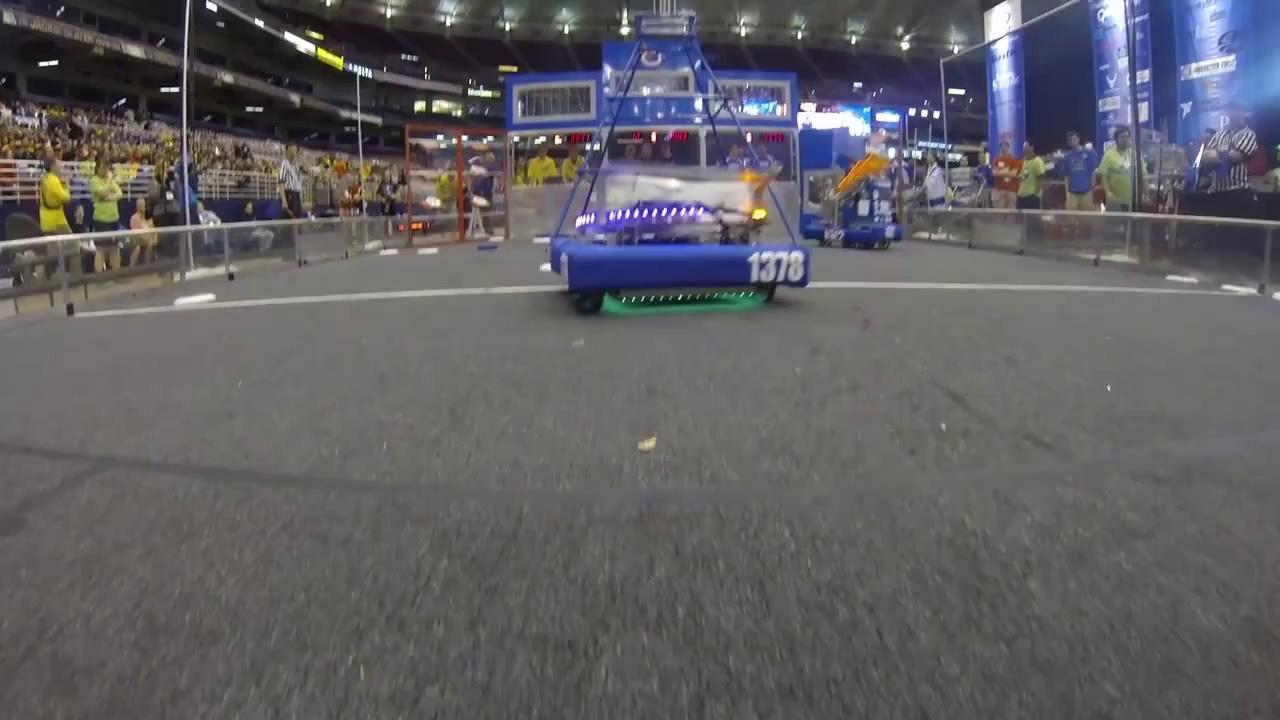robot: (540, 157, 814, 320), (802, 136, 909, 253)
